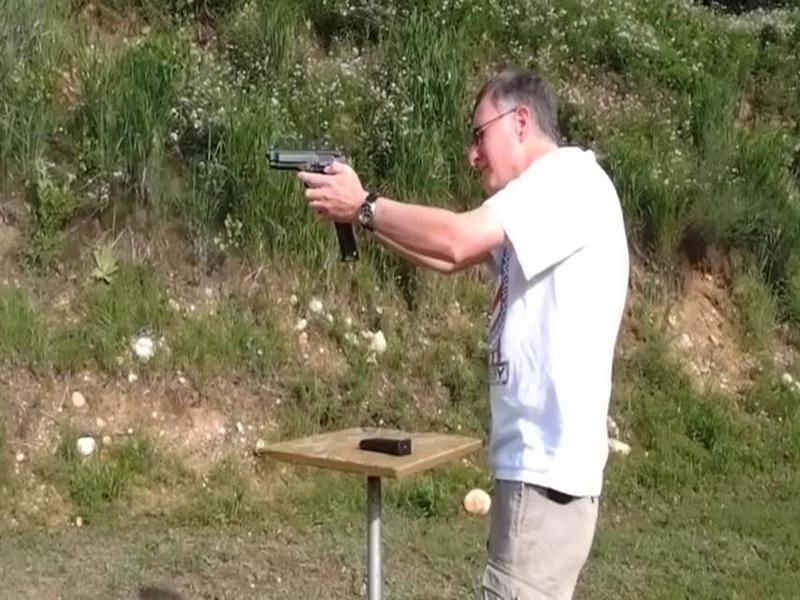Pistola: (259, 134, 367, 240)
